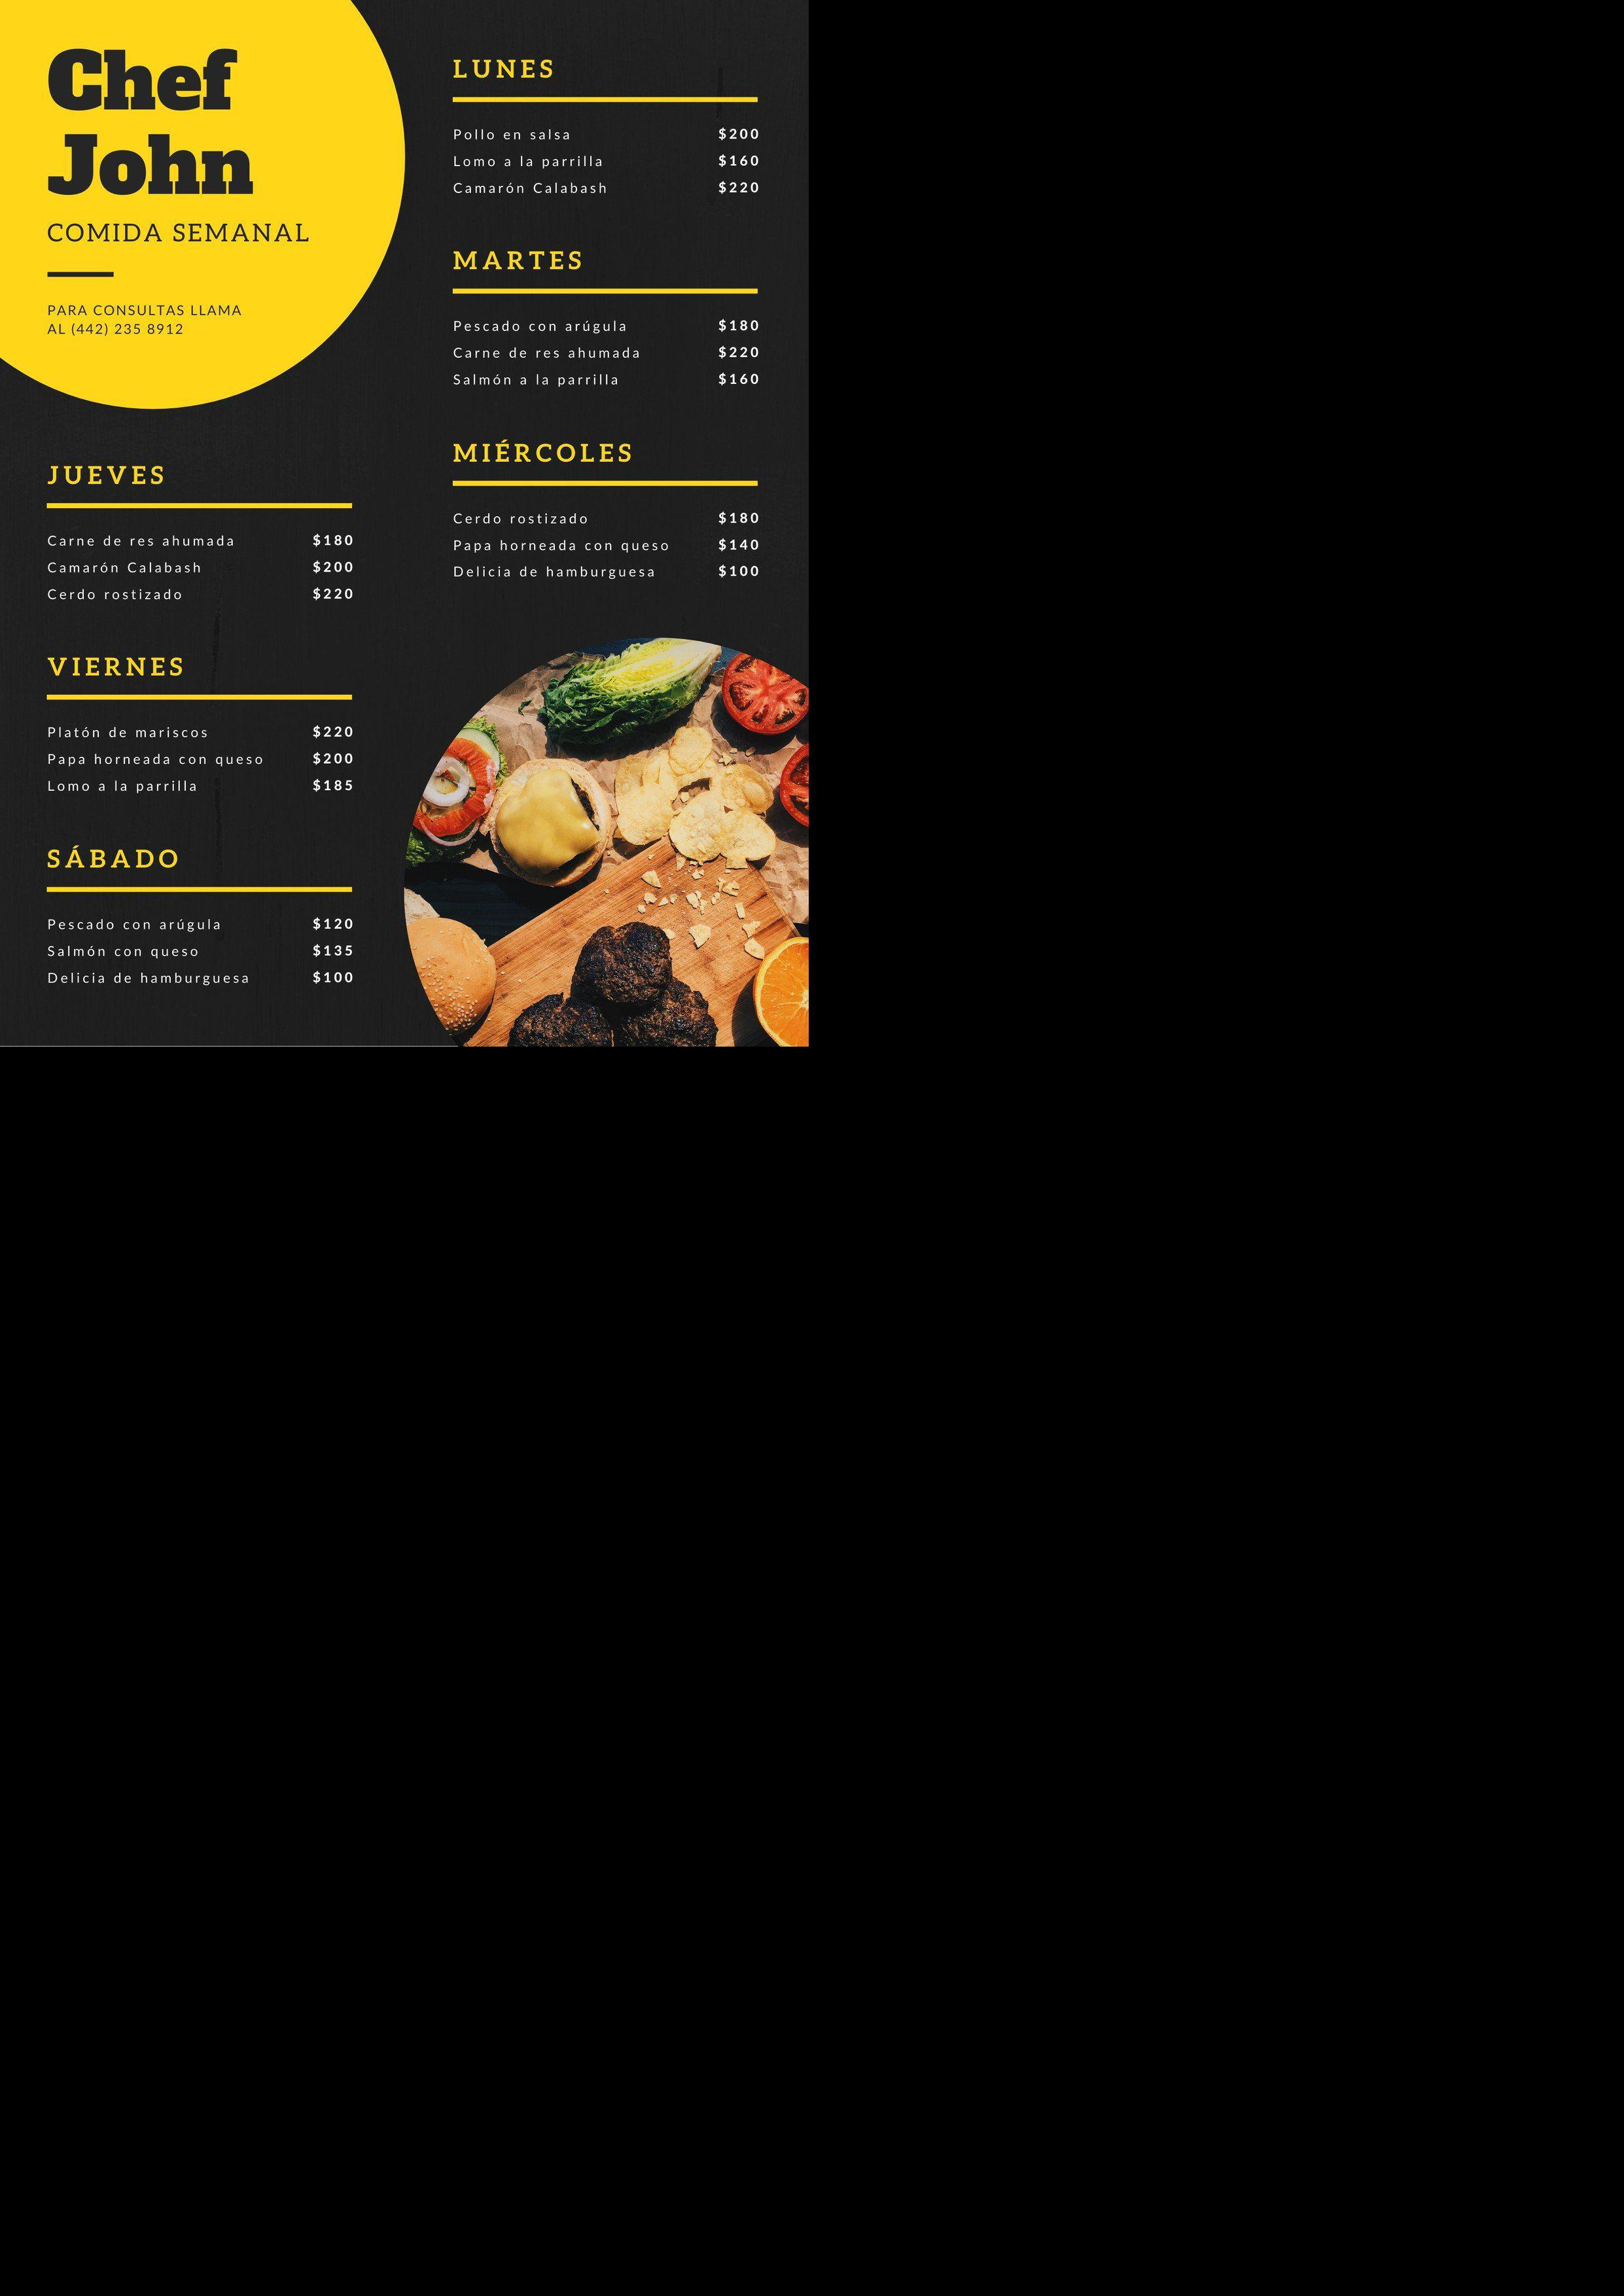item: (449, 530, 770, 559), (450, 338, 768, 366), (44, 555, 359, 583), (44, 528, 357, 555), (44, 746, 364, 772), (450, 366, 766, 392), (44, 773, 359, 799), (45, 937, 358, 962), (44, 584, 361, 608), (40, 965, 359, 988), (449, 175, 768, 198), (447, 315, 766, 339), (447, 148, 765, 171), (449, 123, 763, 145), (449, 561, 767, 583), (450, 508, 766, 530), (41, 721, 359, 742), (43, 912, 357, 933)
price: (309, 559, 357, 578), (309, 531, 356, 551), (717, 536, 766, 553), (309, 723, 358, 739), (715, 317, 762, 334), (310, 969, 355, 985), (717, 345, 762, 361), (716, 510, 760, 527), (309, 752, 358, 766), (717, 154, 761, 169), (311, 587, 357, 602), (311, 943, 356, 958), (715, 180, 760, 194), (309, 778, 355, 791), (715, 564, 761, 578), (719, 126, 761, 141), (717, 372, 758, 386), (310, 916, 355, 929)
tittle: (46, 752, 264, 768), (44, 969, 253, 986), (46, 533, 236, 549), (453, 346, 643, 361), (452, 565, 658, 579), (453, 540, 671, 552), (46, 918, 223, 933), (453, 319, 629, 334), (453, 372, 619, 387), (47, 943, 202, 959), (46, 780, 198, 795), (453, 181, 612, 196), (46, 725, 209, 739), (451, 154, 603, 169), (46, 561, 203, 574), (453, 512, 589, 527), (47, 588, 183, 602), (452, 129, 573, 142)
